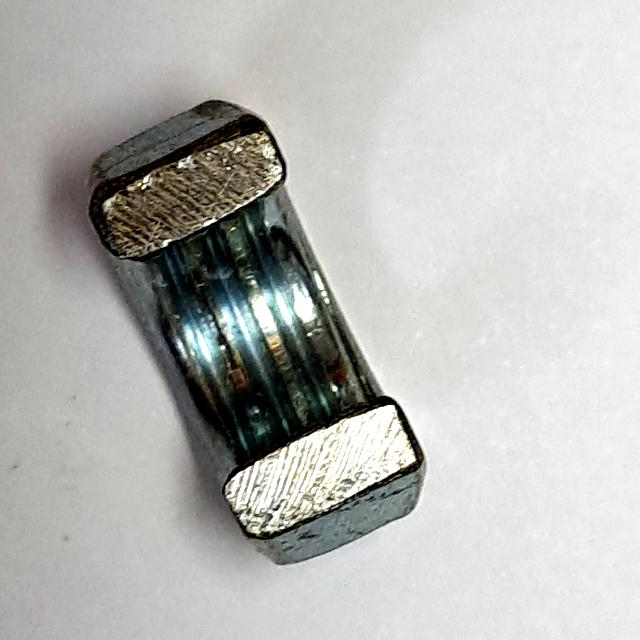Side-Fracture: (70, 83, 450, 589)
